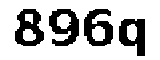6: (82, 6, 115, 52)
8: (11, 8, 45, 50)
9: (47, 7, 81, 49)
q: (117, 13, 150, 60)
